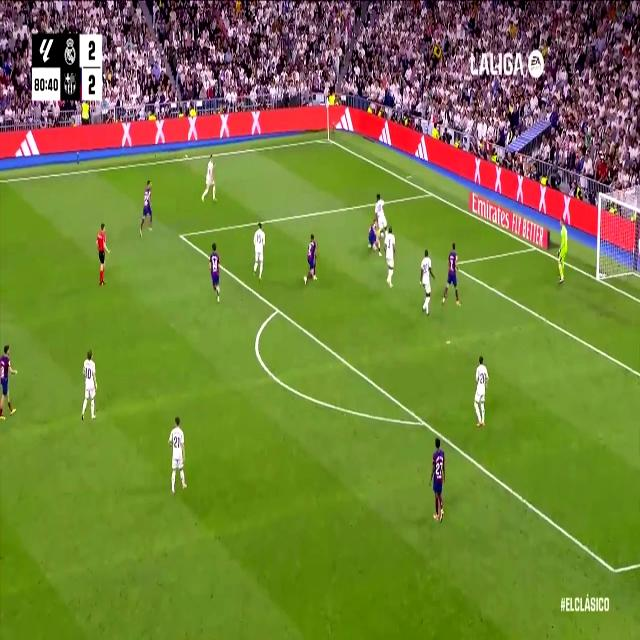bigarea_bottom_inner: (608, 554, 622, 586)
bigarea_top_outter: (426, 184, 435, 200)
bottom_arc_area_intersection: (417, 408, 429, 435)
corner: (323, 132, 333, 145)
smallarea_top_inner: (176, 224, 186, 246)
top_arc_area_intersection: (272, 299, 282, 319)
